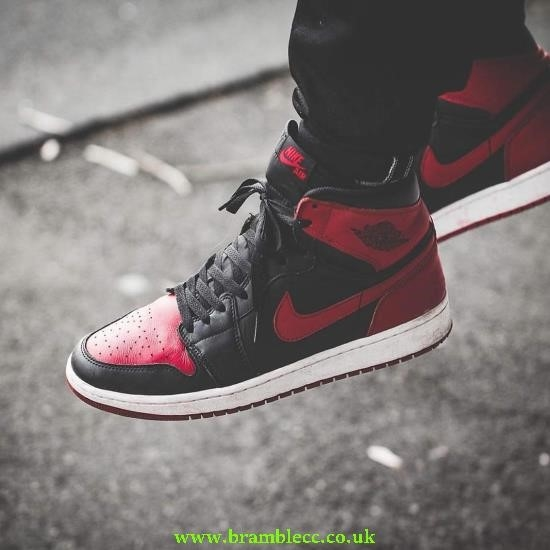Air Jordan 1 Bred: (53, 117, 457, 428)
